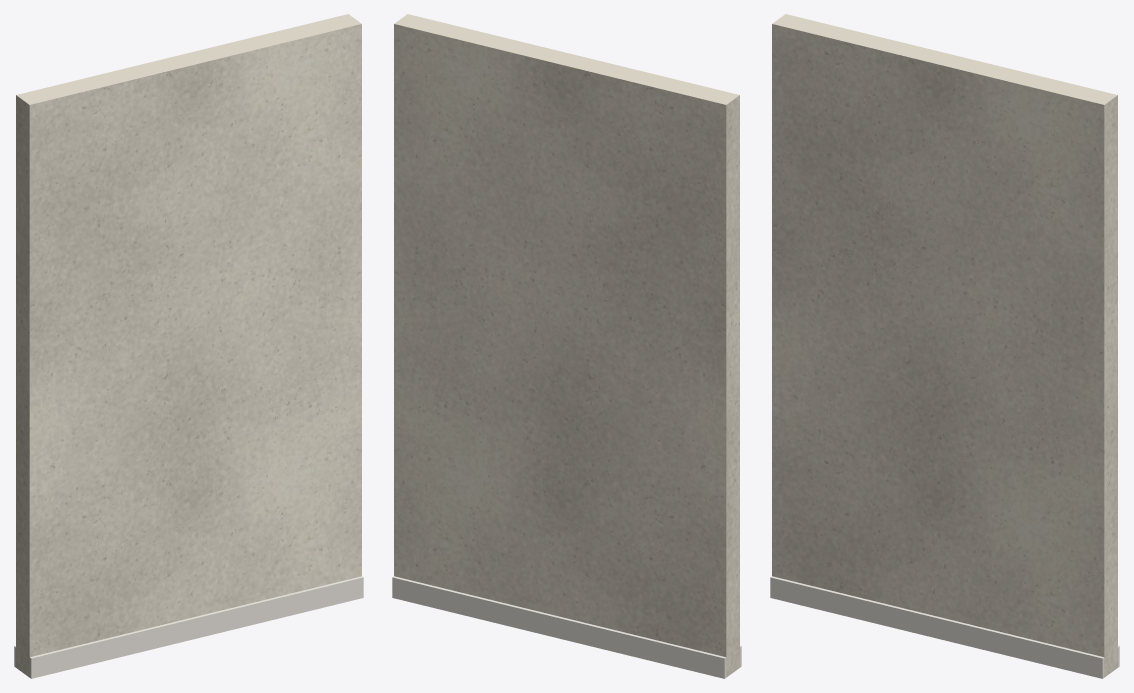
File: interior_wall_end.glb
3 renders of one model, left to right at view 1: azimuth 30°, elevation 25°; view 2: azimuth 150°, elevation 25°; view 3: azimuth 330°, elevation 25°, orthographic.
Parts seen in each view (by area): view 1: interior_wall_end_plaster, interior_wall_end_trim; view 2: interior_wall_end_plaster, interior_wall_end_trim; view 3: interior_wall_end_plaster, interior_wall_end_trim.
Boxes of the visible parts, bbox=[...] form: interior_wall_end_plaster: bbox=[16, 14, 361, 677]; interior_wall_end_trim: bbox=[14, 576, 363, 678]; interior_wall_end_plaster: bbox=[394, 14, 739, 677]; interior_wall_end_trim: bbox=[392, 576, 741, 678]; interior_wall_end_plaster: bbox=[772, 14, 1117, 677]; interior_wall_end_trim: bbox=[770, 576, 1119, 678].
Size of the model in its own units: 1.7 by 2.8 by 0.15.
Materials: 2 (1 with a texture image).
